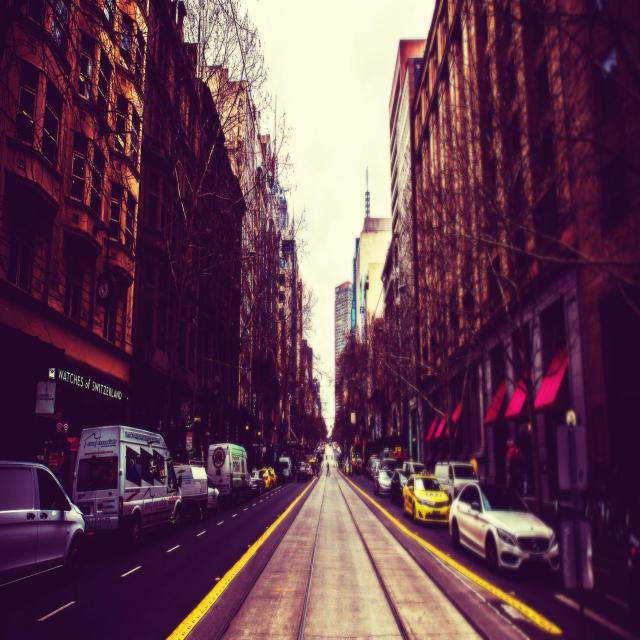airplane: (158, 470, 168, 483), (177, 464, 186, 478), (167, 485, 177, 497), (185, 418, 194, 431), (186, 444, 195, 456), (164, 454, 173, 465), (148, 462, 156, 474), (146, 437, 154, 449)
